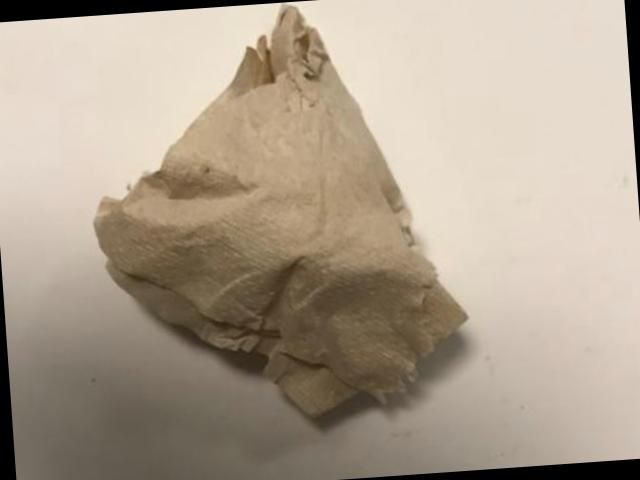cardboard paper: (97, 8, 468, 418)
